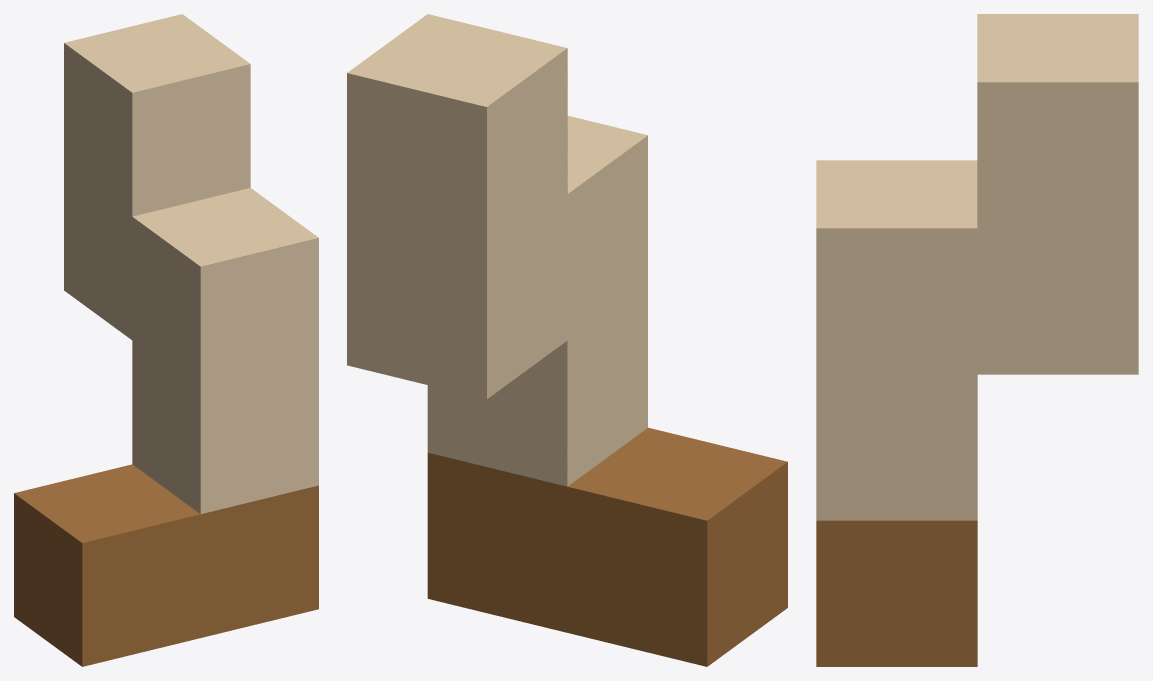
The model's file is meerkat__leg_fr.obj.
The picture shows the model from 3 angles, left to right: view 1: azimuth 30°, elevation 25°; view 2: azimuth 150°, elevation 25°; view 3: azimuth 270°, elevation 25°; orthographic projection. The views are drawn at different scales.
Visible parts, largest first — view 1: meerkat__leg_fr; view 2: meerkat__leg_fr; view 3: meerkat__leg_fr.
Part boxes in pixels (x1=…): meerkat__leg_fr: x1=14, y1=14, x2=318, y2=666; meerkat__leg_fr: x1=347, y1=14, x2=787, y2=666; meerkat__leg_fr: x1=816, y1=14, x2=1138, y2=666.
Bounding box in the file's own units: 0.2 × 0.4 × 0.2.
1 material, 1 textured.
